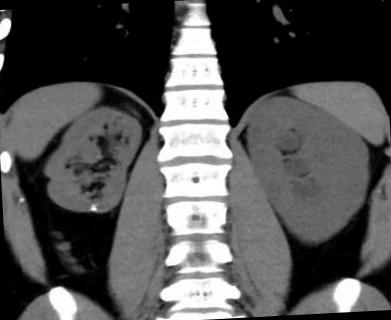Tas_Var: (88, 206, 98, 213)
